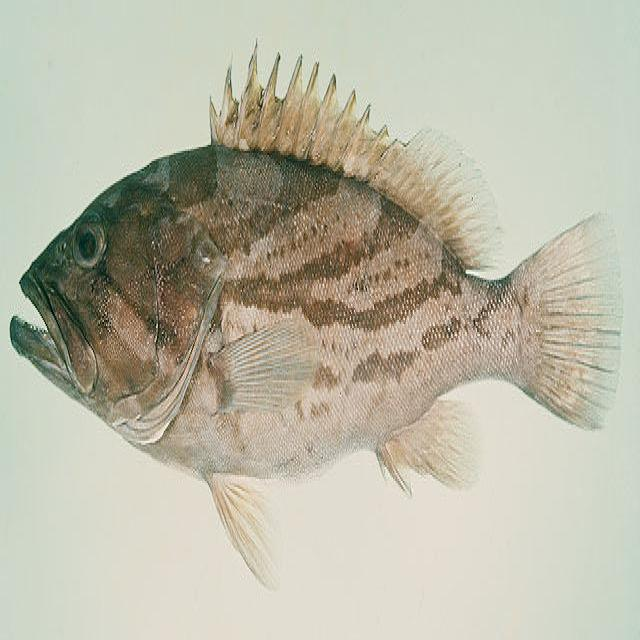ikan: (9, 38, 623, 590)
